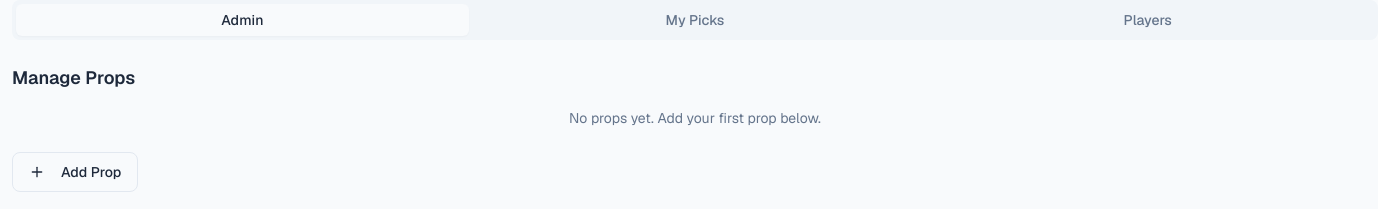
it: CaptainTabsClient › My Picks Tab › props display › shows "No props" message when propsList is empty
The image size is (1378, 209).
Click the tab "My Picks".
click(695, 20)  # box [469,4,921,36]
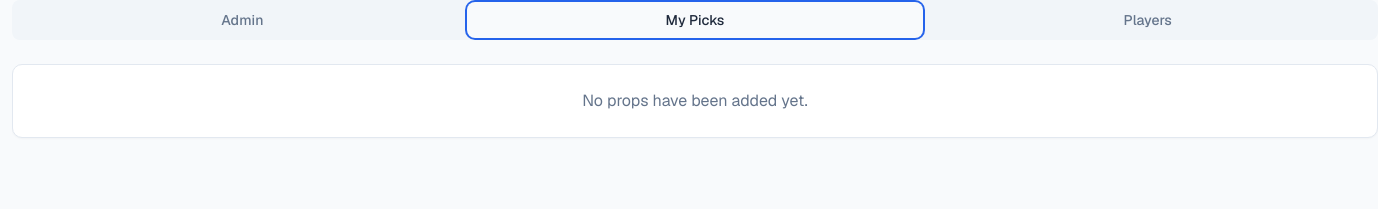
Now the text "No props have been added yet." is shown, box [582,90,808,111]
